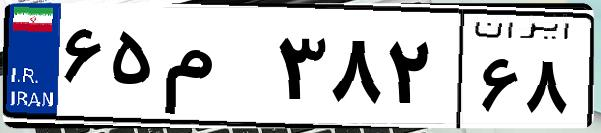2: (385, 28, 445, 110)
3: (270, 28, 330, 110)
5: (110, 28, 158, 98)
6: (57, 26, 110, 100), (475, 38, 525, 113)
8: (330, 28, 385, 110), (525, 38, 570, 115)
م: (158, 20, 270, 120)
